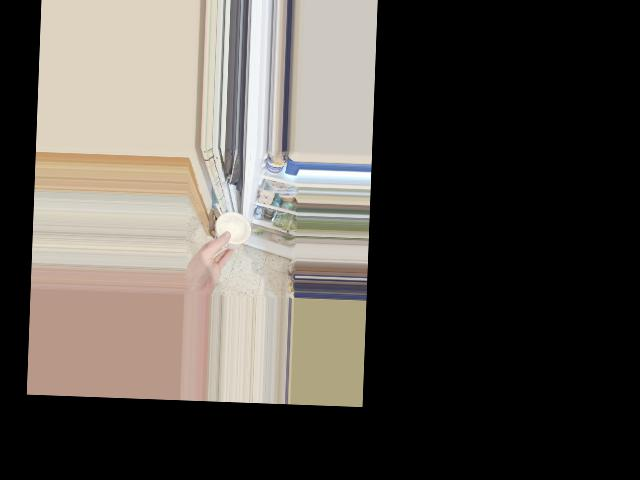cotage: (213, 206, 250, 252)
